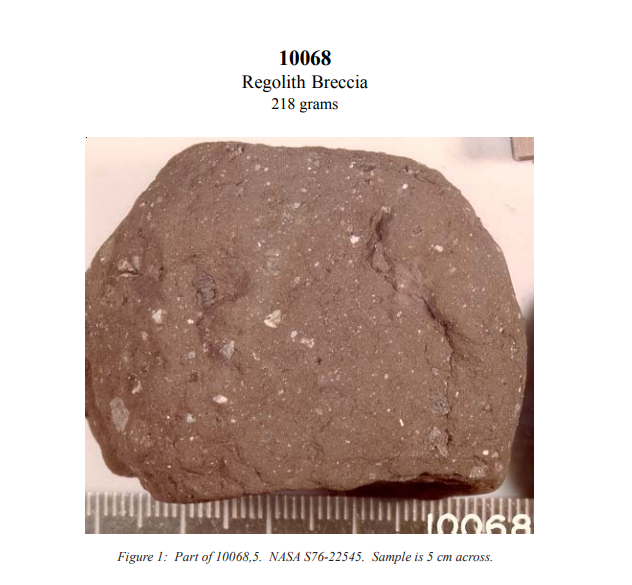Breccia: (85, 138, 534, 536)
